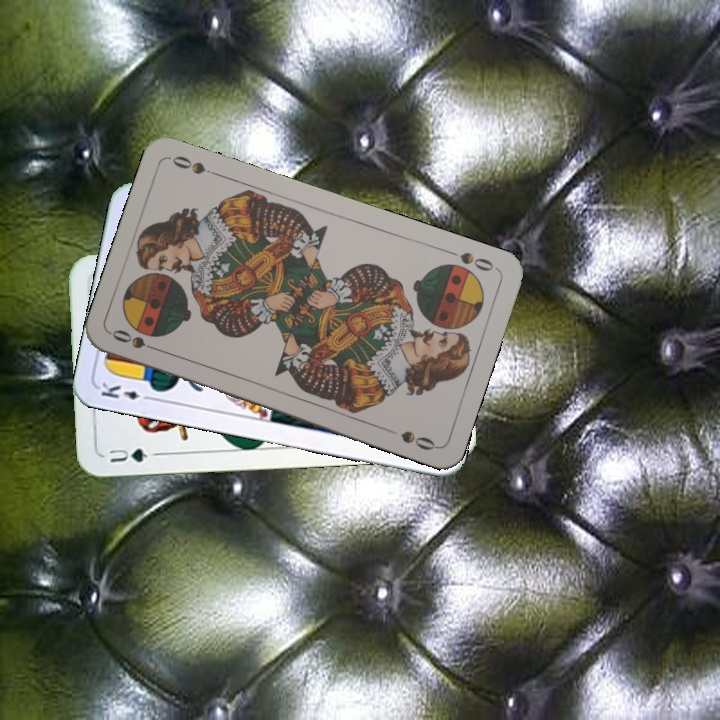EK: (96, 378, 155, 403)
GU: (105, 444, 150, 465)
SO: (108, 325, 165, 355), (442, 245, 499, 274)
